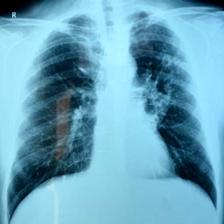tuberculosis: (2, 4, 221, 224)
